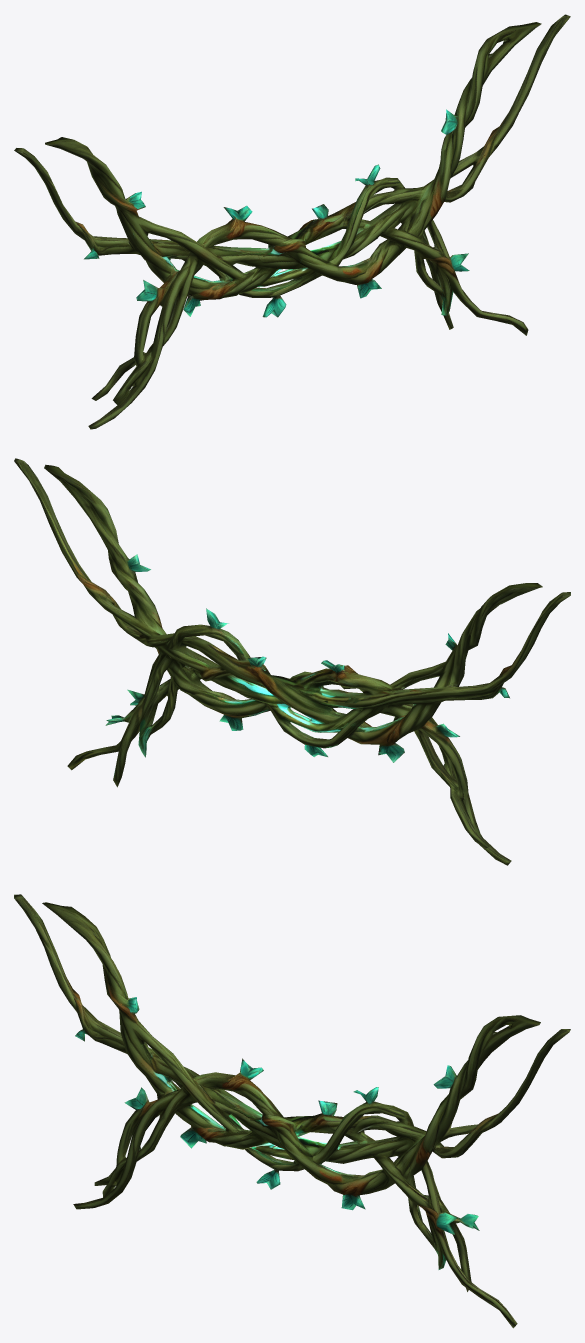
The picture shows the model from 3 angles, top to bottom: view 1: azimuth 30°, elevation 25°; view 2: azimuth 150°, elevation 25°; view 3: azimuth 330°, elevation 25°; orthographic projection.
Visible parts, largest first — view 1: Mesh_0; view 2: Mesh_0; view 3: Mesh_0.
Part boxes in pixels (left/top/right/bottom): Mesh_0: left=14, top=14, right=570, bottom=429; Mesh_0: left=14, top=458, right=570, bottom=865; Mesh_0: left=14, top=894, right=570, bottom=1328.
Bounding box in the file's own units: 1.91 × 0.999 × 0.1903.
Materials: 1 (1 with a texture image).
